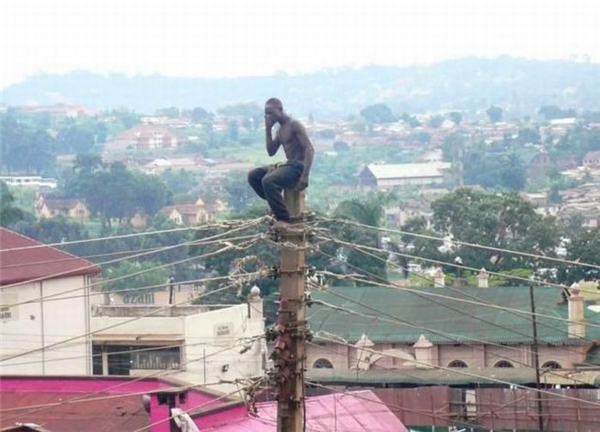infiltrator: (247, 94, 317, 226)
